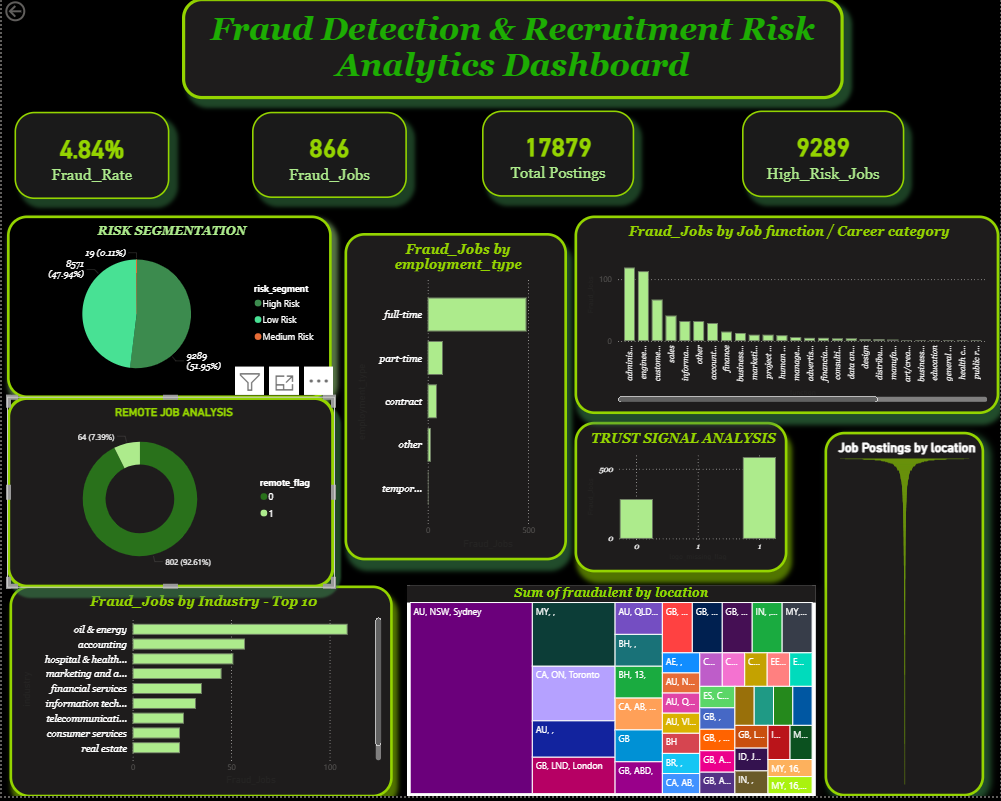

The dashboard page shown, as its layout file describes it:
{"tool":"powerbi","page":{"name":"Dashboard","canvas":[1500,1200],"ordinal":0},"visuals":[{"type":"card","fields":{"Values":["CountNonNull(raw_dataset.job_id)"]},"box":[721.4,169.1,229.2,129.6],"z":0},{"type":"actionButton","box":[0,0,100,40],"z":1000},{"type":"card","fields":{"Values":["Explainability_Sheet.Fraud_Jobs"]},"box":[375.7,170.9,232.9,129.6],"z":2000},{"type":"card","fields":{"Values":["raw_dataset.Fraud_Rate"]},"box":[18.8,170.9,232.9,131.5],"z":3000},{"type":"card","fields":{"Values":["Explainability_Sheet.High_Risk_Jobs"]},"box":[1112,170,244,130],"z":4000},{"type":"clusteredBarChart","title":"Fraud_Jobs by Industry - Top 10","fields":{"Category":["raw_dataset.industry"],"Y":["Explainability_Sheet.Fraud_Jobs"]},"box":[11.3,901.7,565.4,298.7],"z":5000},{"type":"donutChart","title":"REMOTE JOB ANALYSIS","fields":{"Category":["raw_dataset.remote_flag"],"Y":["Explainability_Sheet.Fraud_Jobs"]},"box":[7.5,610.5,511,276.1],"z":6000},{"type":"pieChart","title":"RISK SEGMENTATION","fields":{"Category":["raw_dataset.risk_segment"],"Y":["CountNonNull(raw_dataset.job_id)"]},"box":[7.5,326.9,511,272.4],"z":7000},{"type":"columnChart","title":"TRUST SIGNAL ANALYSIS","fields":{"Category":["raw_dataset.logo_missing_flag"],"Y":["Explainability_Sheet.Fraud_Jobs"]},"box":[884.8,636.8,338.1,225.4],"z":8000},{"type":"textbox","box":[270,0,994,152],"z":9000},{"type":"clusteredBarChart","fields":{"Category":["raw_dataset.employment_type"],"Y":["Explainability_Sheet.Fraud_Jobs"]},"box":[539.1,358.8,321.2,503.4],"z":10000},{"type":"clusteredColumnChart","title":"Fraud_Jobs by Job function / Career category","fields":{"Category":["raw_dataset.function"],"Y":["Explainability_Sheet.Fraud_Jobs"]},"box":[884.8,326.9,612.4,310],"z":11000},{"type":"funnel","title":"Job Postings by location","fields":{"Y":["Count(Explainability_Sheet.job_id)"],"Category":["raw_dataset.location"]},"box":[1236,652,240,548],"z":12000},{"type":"treemap","fields":{"Values":["Sum(raw_dataset.fraudulent)"],"Details":["raw_dataset.location"]},"box":[608,882,614,318],"z":13000}]}

Visuals, with their boxes in screenshot pixels (x1, y1, x2, y2), scaled from the page's 1500x1200 canvas onto the 1001x801 screenshot:
card - CountNonNull(raw_dataset.job_id): <box>481,113,634,199</box>
actionButton: <box>0,0,67,27</box>
card - Explainability_Sheet.Fraud_Jobs: <box>251,114,406,201</box>
card - raw_dataset.Fraud_Rate: <box>13,114,168,202</box>
card - Explainability_Sheet.High_Risk_Jobs: <box>742,113,905,200</box>
"Fraud_Jobs by Industry - Top 10" clusteredBarChart: <box>8,602,385,800</box>
"REMOTE JOB ANALYSIS" donutChart: <box>5,408,346,592</box>
"RISK SEGMENTATION" pieChart: <box>5,218,346,400</box>
"TRUST SIGNAL ANALYSIS" columnChart: <box>590,425,816,576</box>
textbox: <box>180,0,844,101</box>
clusteredBarChart - raw_dataset.employment_type x Explainability_Sheet.Fraud_Jobs: <box>360,239,574,576</box>
"Fraud_Jobs by Job function / Career category" clusteredColumnChart: <box>590,218,999,425</box>
"Job Postings by location" funnel: <box>825,435,985,800</box>
treemap - Sum(raw_dataset.fraudulent) x raw_dataset.location: <box>406,589,815,800</box>
